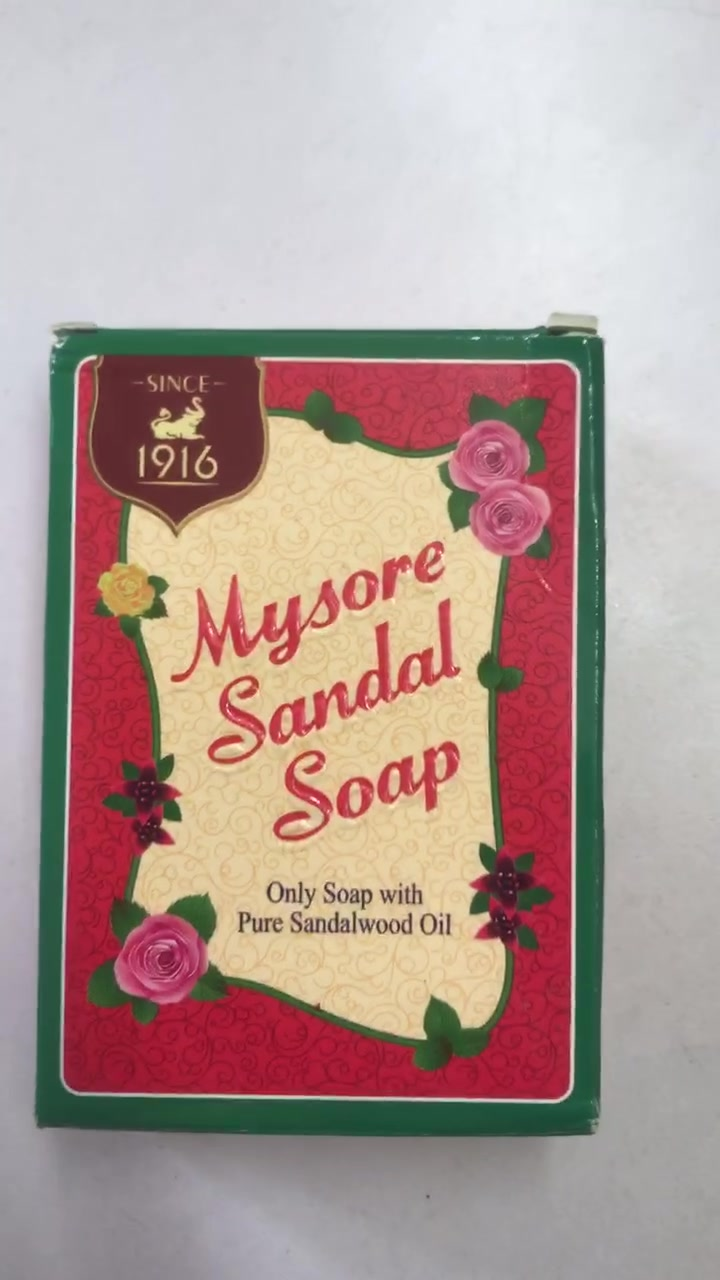mysore sandal soap: (48, 328, 584, 1130)
